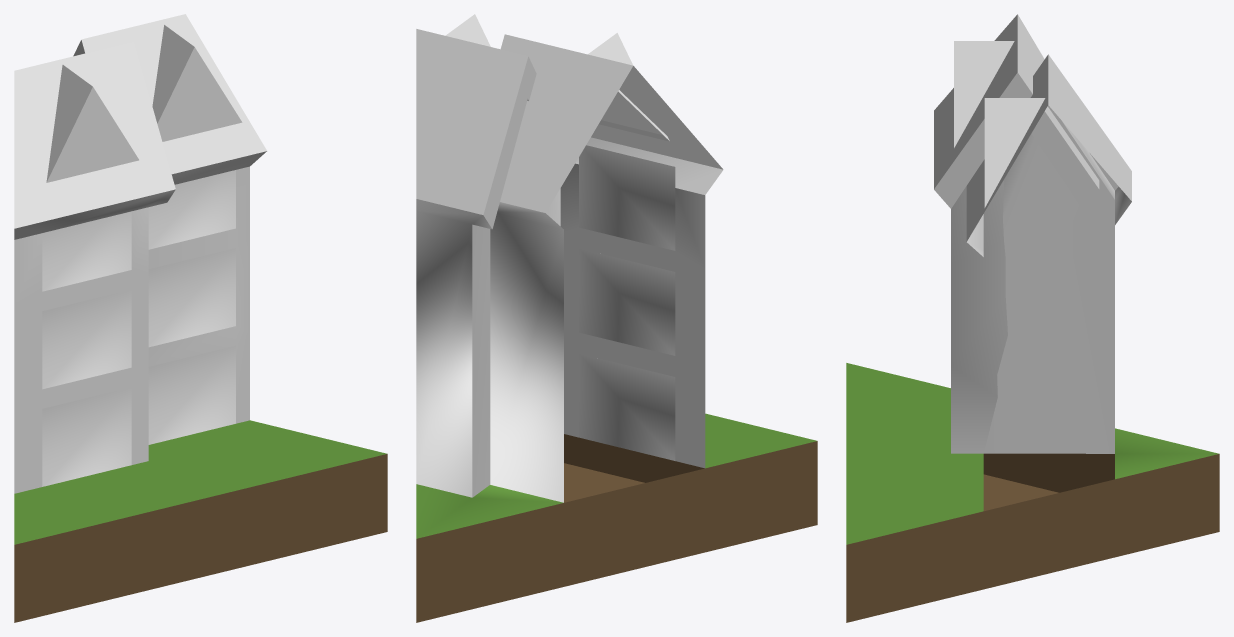
Rendered from Pis_Adossat_EE.fbx.
3 views of the same model, side by side, from view 1: azimuth 30°, elevation 25°; view 2: azimuth 150°, elevation 25°; view 3: azimuth 270°, elevation 25° (orthographic). The views are drawn at different scales.
Visible parts, largest first — view 1: Pis_Adossat_EE, DetallParet.048, DetallParet.049, DetallParet.044, DetallParet.045, DetallTeulada.030, DetallTeulada.031, DetallParet.047, DetallParet.046; view 2: Pis_Adossat_EE, DetallParet.048, DetallParet.049, DetallParet.047, DetallTeulada.030, DetallTeulada.031; view 3: Pis_Adossat_EE, DetallTeulada.031, DetallTeulada.030.
Boxes of the visible parts, x1,y1,x2,y2 form: Pis_Adossat_EE: (14, 14, 387, 622); DetallParet.048: (42, 289, 131, 389); DetallParet.049: (42, 387, 131, 486); DetallParet.044: (148, 345, 235, 444); DetallParet.045: (148, 248, 235, 347); DetallTeulada.030: (46, 65, 138, 182); DetallTeulada.031: (152, 25, 242, 141); DetallParet.047: (42, 211, 131, 291); DetallParet.046: (148, 170, 235, 249); Pis_Adossat_EE: (416, 29, 817, 622); DetallParet.048: (579, 248, 675, 355); DetallParet.049: (579, 353, 675, 460); DetallParet.047: (579, 145, 675, 250); DetallTeulada.030: (588, 33, 669, 141); DetallTeulada.031: (445, 14, 490, 46); Pis_Adossat_EE: (846, 14, 1219, 622); DetallTeulada.031: (984, 98, 1045, 207); DetallTeulada.030: (954, 41, 1014, 147).
Bounding box in the file's own units: 100 × 120 × 86.6.
